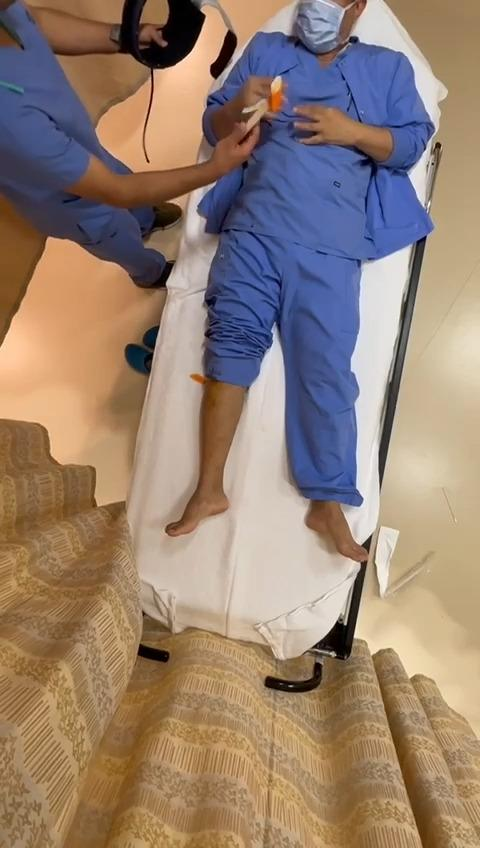bed: (108, 0, 449, 650)
patient: (182, 3, 432, 560)
prepstick: (242, 76, 285, 130)
